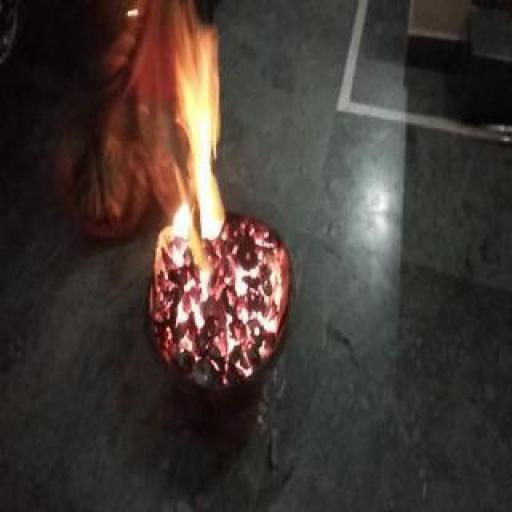smoke: (138, 6, 238, 258), (227, 208, 290, 384), (147, 254, 227, 388)
